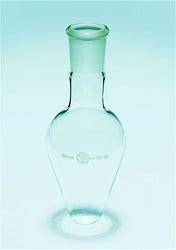Pear shaped flask: (40, 17, 126, 228)
